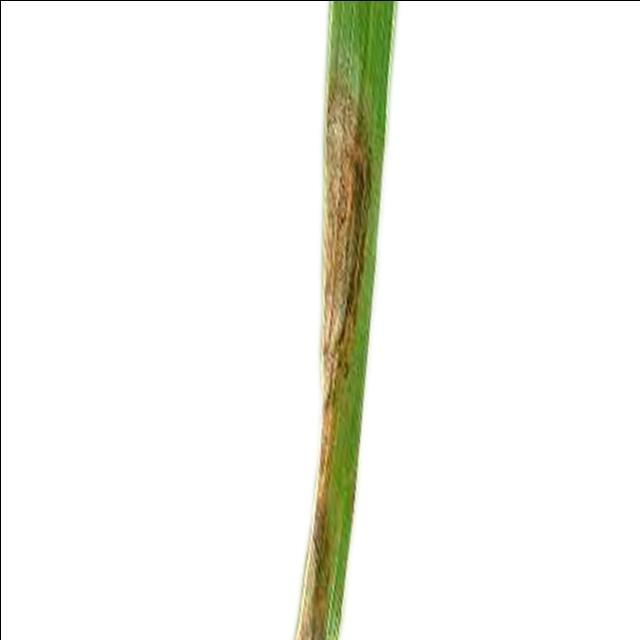Leaf scald: (127, 0, 480, 640)
